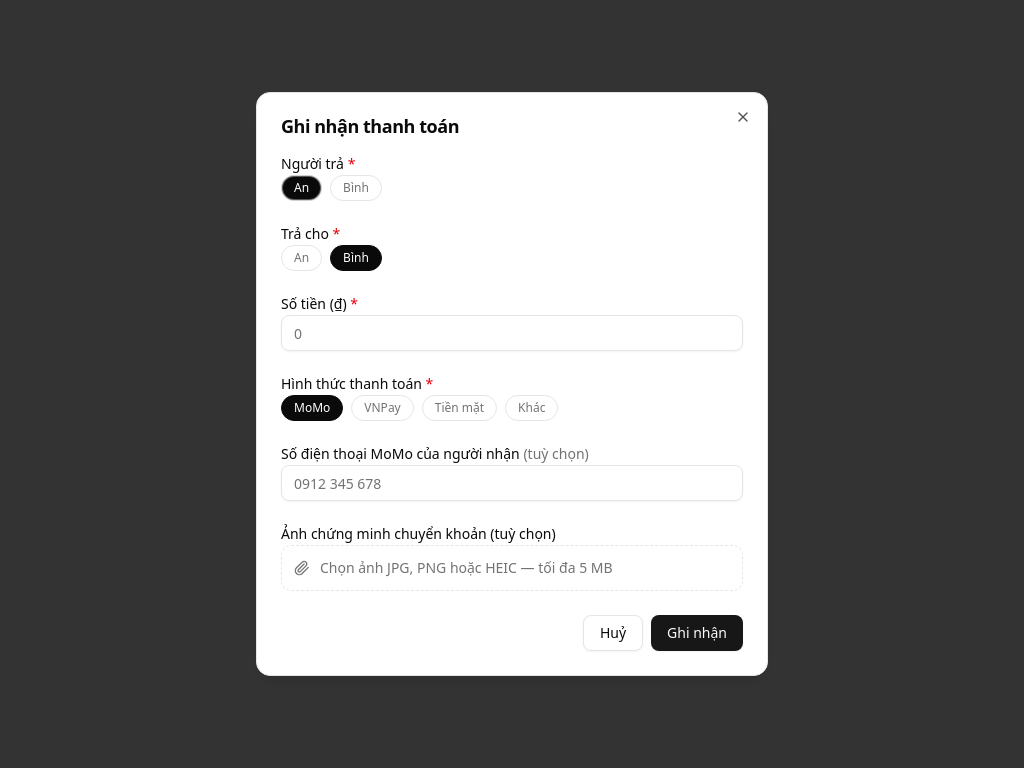
it: RecordSettlementDialog — formTouched + error derivation › shows same-person error immediately when payer and recipient are the same
Note: The second "An" button is in the "Trả cho" section
What coordinates should you click on to do the following:
click the button "An" below "Trả cho"
I would click on:
 (302, 258)
Its box is [281, 245, 322, 271].
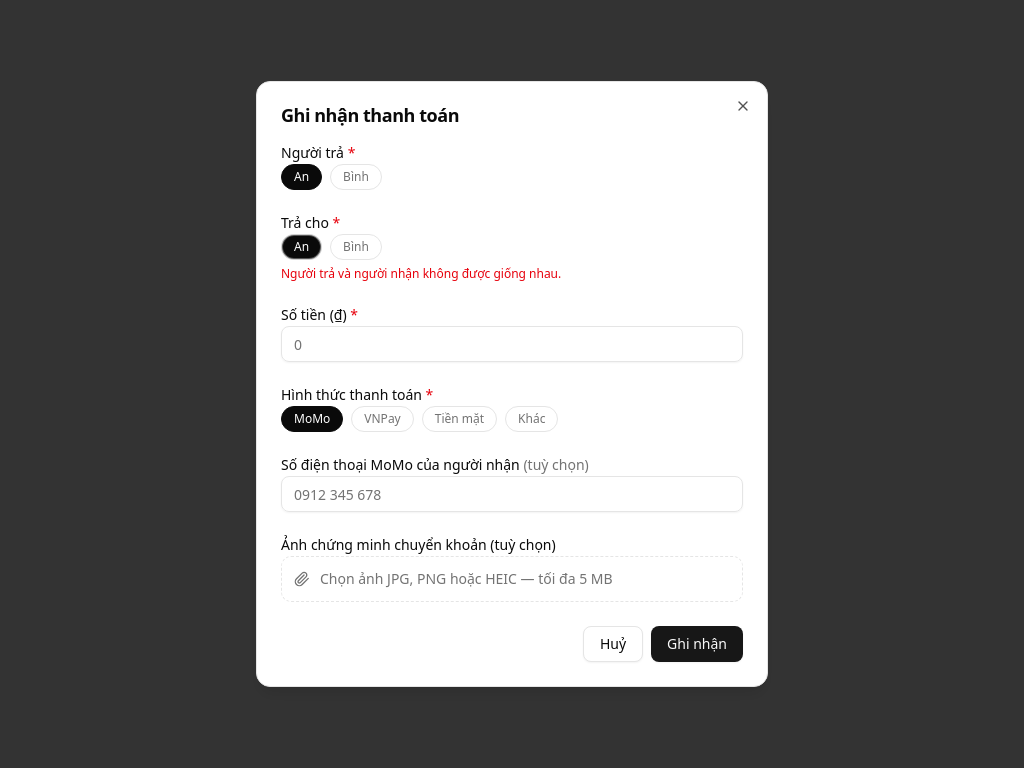
Result: the text "Người trả và người nhận không được giống nhau." is shown at [281, 265, 561, 282]
